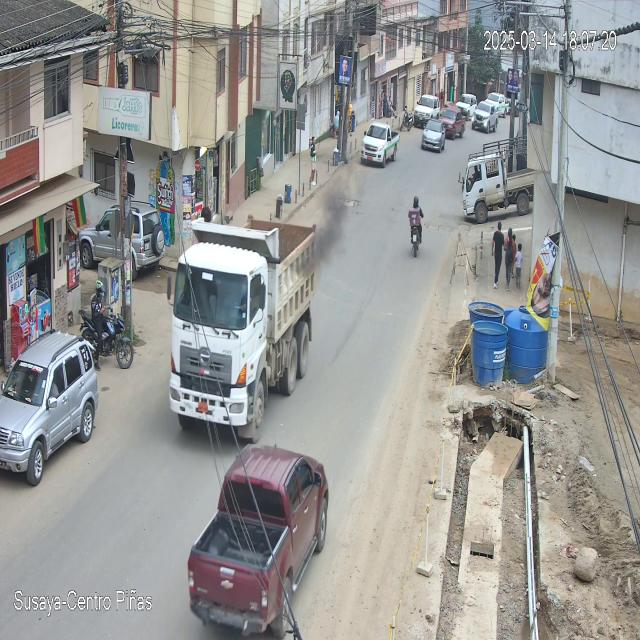CMT: (188, 446, 330, 640)
TRUCK: (169, 220, 316, 444)
